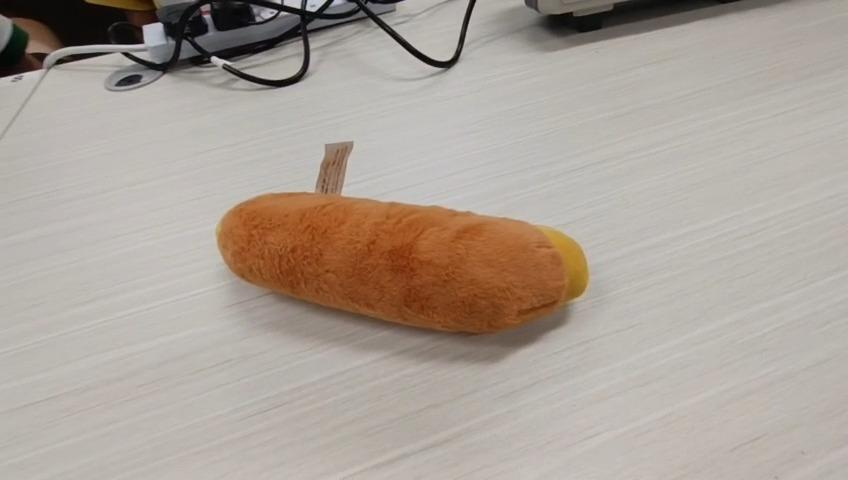hotdog: (217, 191, 590, 334)
